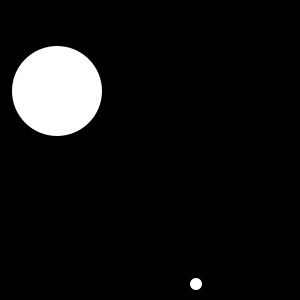rectangle: (12, 46, 102, 136), (190, 278, 202, 290)
